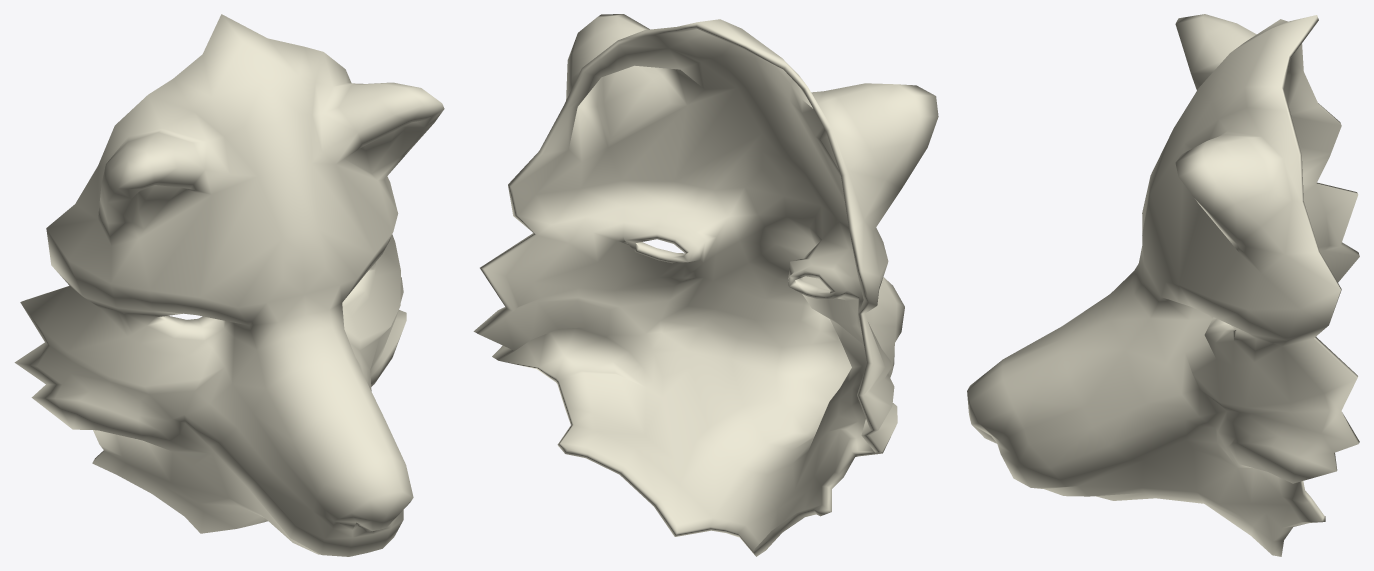
Rendered from mask.fbx.
3 views of the same model, side by side, from view 1: azimuth 30°, elevation 25°; view 2: azimuth 150°, elevation 25°; view 3: azimuth 270°, elevation 25° (orthographic). The views are drawn at different scales.
Parts seen in each view (by area): view 1: Kitsune_fracturepart6, Kitsune_fracturepart4, Kitsune_fracturepart2, Kitsune_fracturepart1, Kitsune_fracturepart3, Kitsune_fracturepart5; view 2: Kitsune_fracturepart1, Kitsune_fracturepart6, Kitsune_fracturepart4, Kitsune_fracturepart3, Kitsune_fracturepart5, Kitsune_fracturepart2; view 3: Kitsune_fracturepart1, Kitsune_fracturepart4, Kitsune_fracturepart3, Kitsune_fracturepart6, Kitsune_fracturepart5, Kitsune_fracturepart2.
Part boxes in pixels (x1,y1,x2,y2): Kitsune_fracturepart6: (46, 14, 410, 286); Kitsune_fracturepart4: (93, 237, 399, 499); Kitsune_fracturepart2: (14, 257, 214, 495); Kitsune_fracturepart1: (335, 61, 444, 386); Kitsune_fracturepart3: (230, 384, 413, 556); Kitsune_fracturepart5: (154, 452, 267, 533); Kitsune_fracturepart1: (473, 14, 707, 445); Kitsune_fracturepart6: (598, 19, 938, 295); Kitsune_fracturepart4: (666, 151, 900, 366); Kitsune_fracturepart3: (630, 285, 904, 463); Kitsune_fracturepart5: (558, 376, 832, 556); Kitsune_fracturepart2: (794, 289, 897, 519); Kitsune_fracturepart1: (1165, 134, 1359, 521); Kitsune_fracturepart4: (972, 195, 1216, 420); Kitsune_fracturepart3: (967, 383, 1242, 503); Kitsune_fracturepart6: (1146, 14, 1341, 240); Kitsune_fracturepart5: (1197, 466, 1325, 556); Kitsune_fracturepart2: (1302, 153, 1359, 282).
Size of the model in its own units: 0.2664 by 0.3382 by 0.2303.
